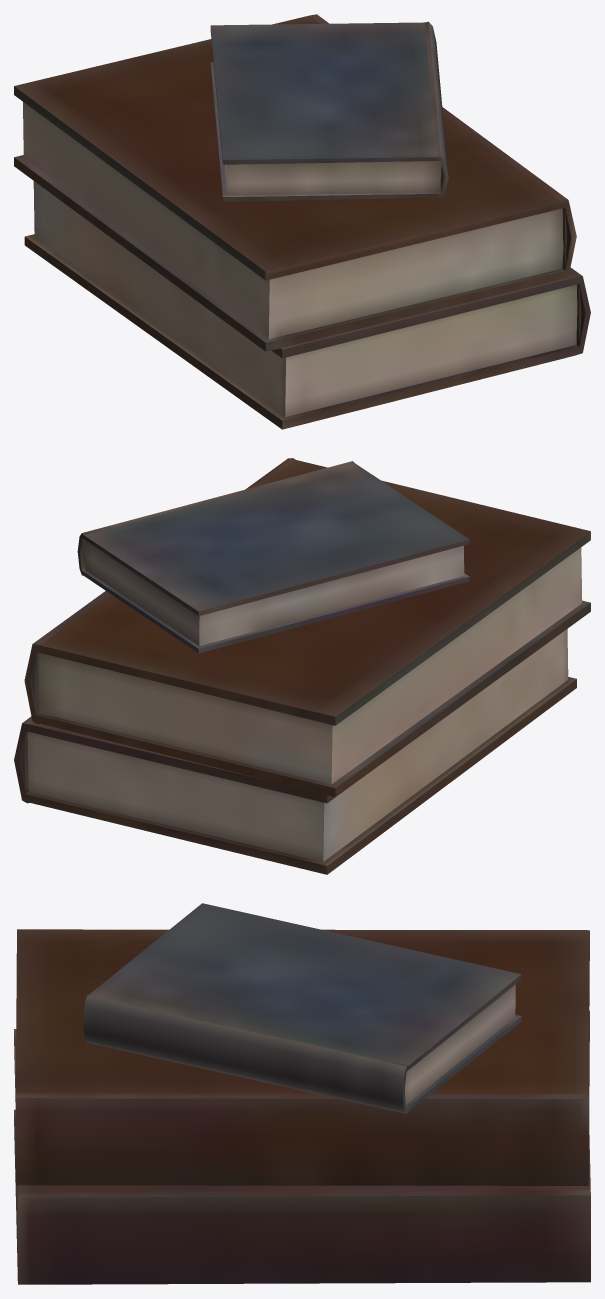
Rendered from book-pile-d.lod1.glb.
3 views of the same model, one above another, from view 1: azimuth 30°, elevation 25°; view 2: azimuth 150°, elevation 25°; view 3: azimuth 270°, elevation 25° (orthographic). The views are drawn at different scales.
Visible parts, largest first — view 1: book-pile-d; view 2: book-pile-d; view 3: book-pile-d.
Boxes of the visible parts, x1,y1,x2,y2 form: book-pile-d: (14,14,590,429); book-pile-d: (14,458,590,874); book-pile-d: (14,903,590,1284).
Bounding box in the file's own units: 0.1826 × 0.1039 × 0.2365.
Materials: 1 (1 with a texture image).
